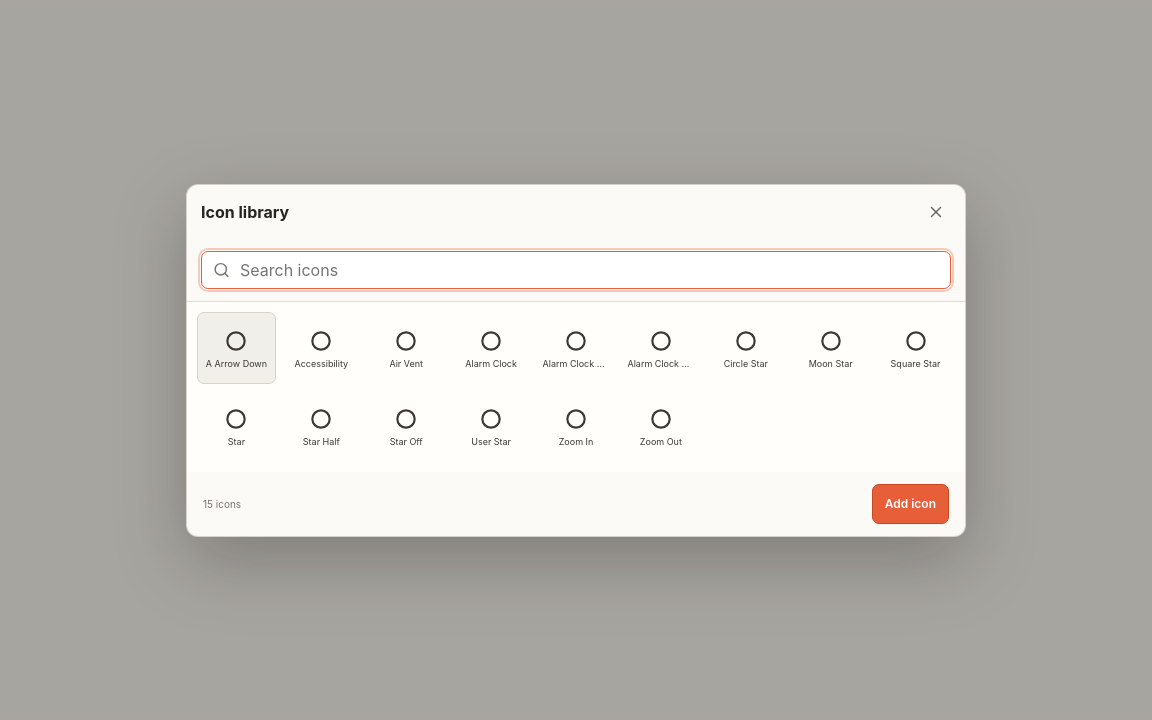
Test: IconLibraryDialog › focuses search, filters at once, and selects the first result
In the search field labelled "Search icons": (576, 270) [201,250,951,288], type "air vent"
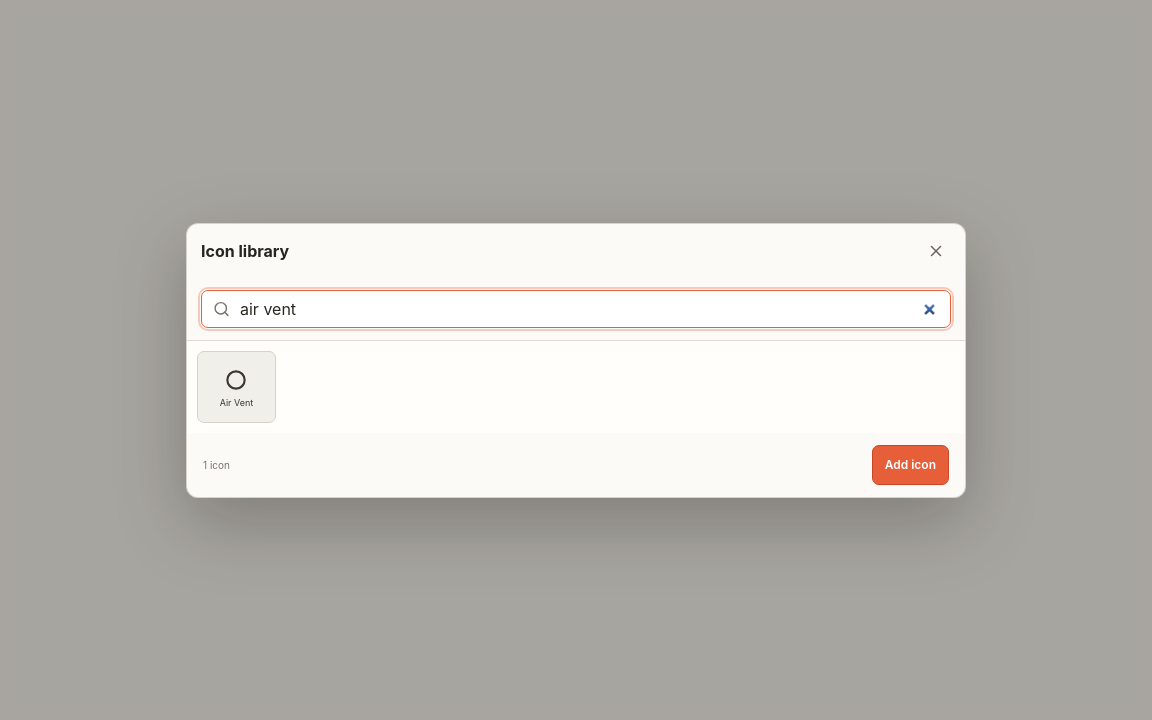
Now the text "1 icon" is shown, box [203,458,230,470]
